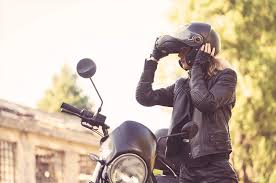motorcycle: (60, 57, 200, 183)
